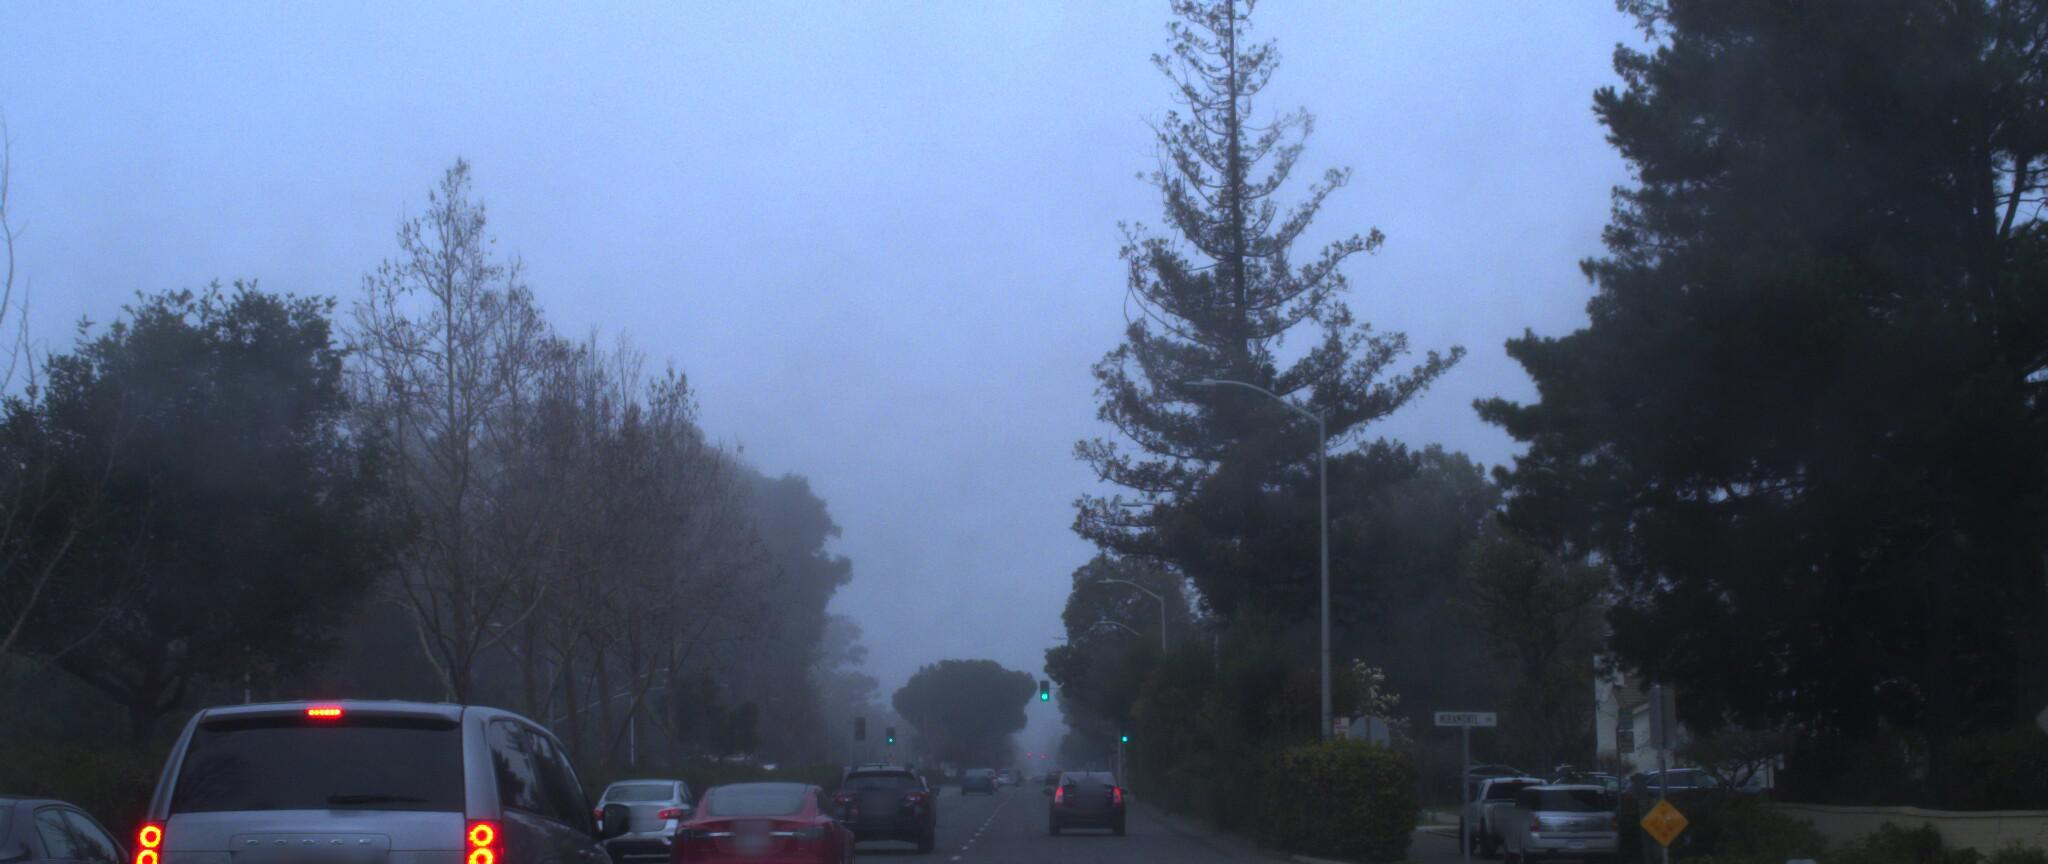car: (74, 670, 653, 864), (658, 754, 863, 864), (0, 766, 195, 864), (1475, 760, 1616, 854), (588, 757, 713, 850), (1441, 756, 1576, 841), (823, 743, 933, 837), (1053, 736, 1140, 818)
